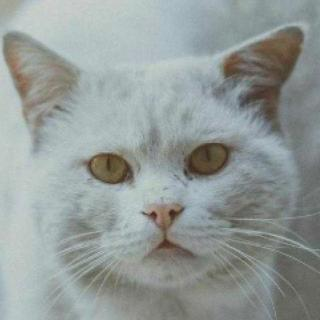cat: (17, 29, 302, 294)
nose: (135, 180, 190, 231)
